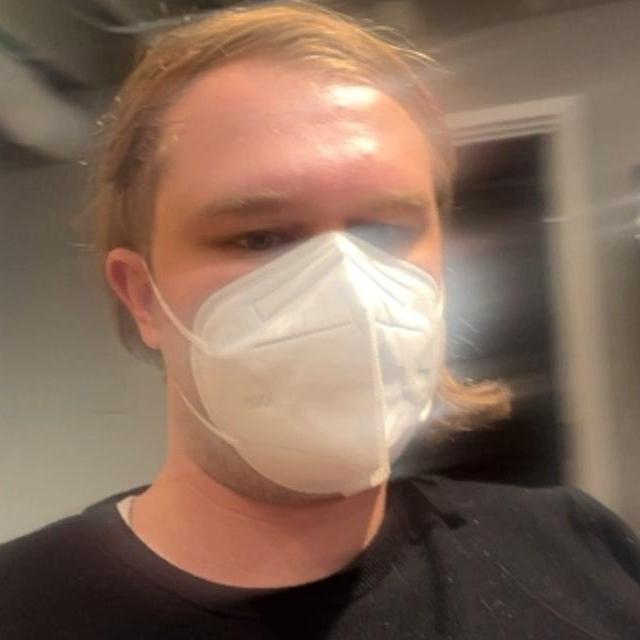NO-Hardhat: (107, 0, 442, 151)
NO-Mask: (133, 241, 444, 501)
NO-Safety Vest: (0, 478, 640, 640)
Person: (0, 0, 640, 640)
